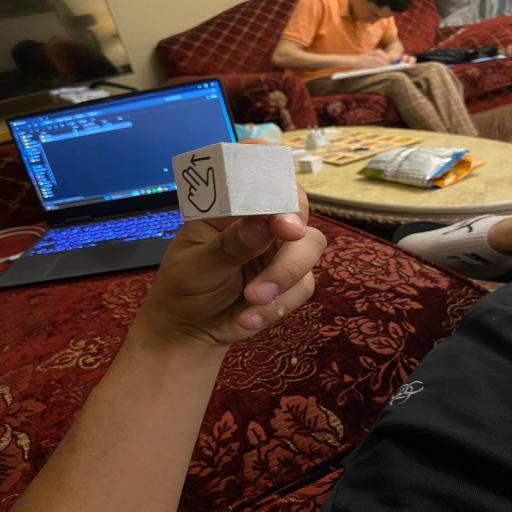LeftSwipe: (172, 142, 298, 220)
